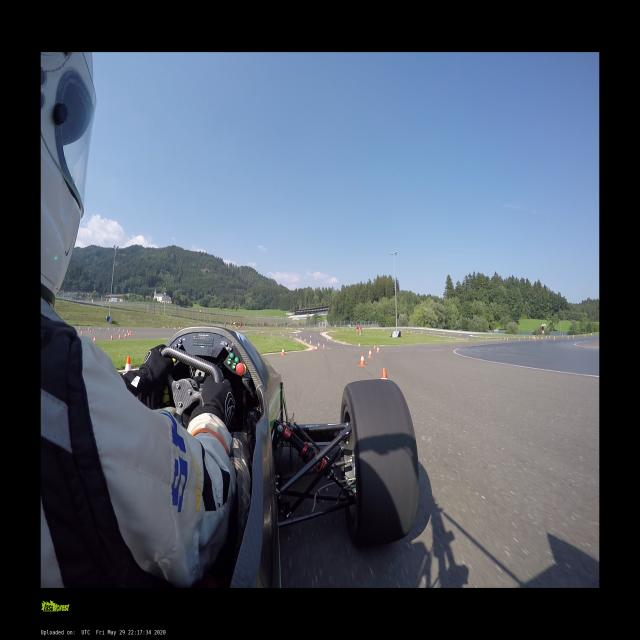orange_cone: (359, 352, 365, 367), (125, 356, 131, 371), (382, 368, 387, 379), (92, 336, 97, 343), (368, 349, 372, 357), (109, 334, 113, 340), (376, 346, 379, 353), (282, 347, 284, 355), (118, 334, 121, 339), (322, 343, 324, 349), (80, 330, 82, 336), (124, 333, 126, 338), (374, 344, 376, 349), (92, 328, 94, 332), (128, 330, 131, 332), (87, 327, 90, 329), (127, 333, 129, 336), (318, 342, 319, 347), (310, 340, 311, 345), (313, 346, 314, 351), (359, 342, 360, 347), (87, 328, 89, 330), (127, 334, 129, 336), (122, 330, 124, 332), (90, 331, 91, 334), (79, 326, 80, 328), (127, 330, 128, 332), (130, 332, 131, 334)
